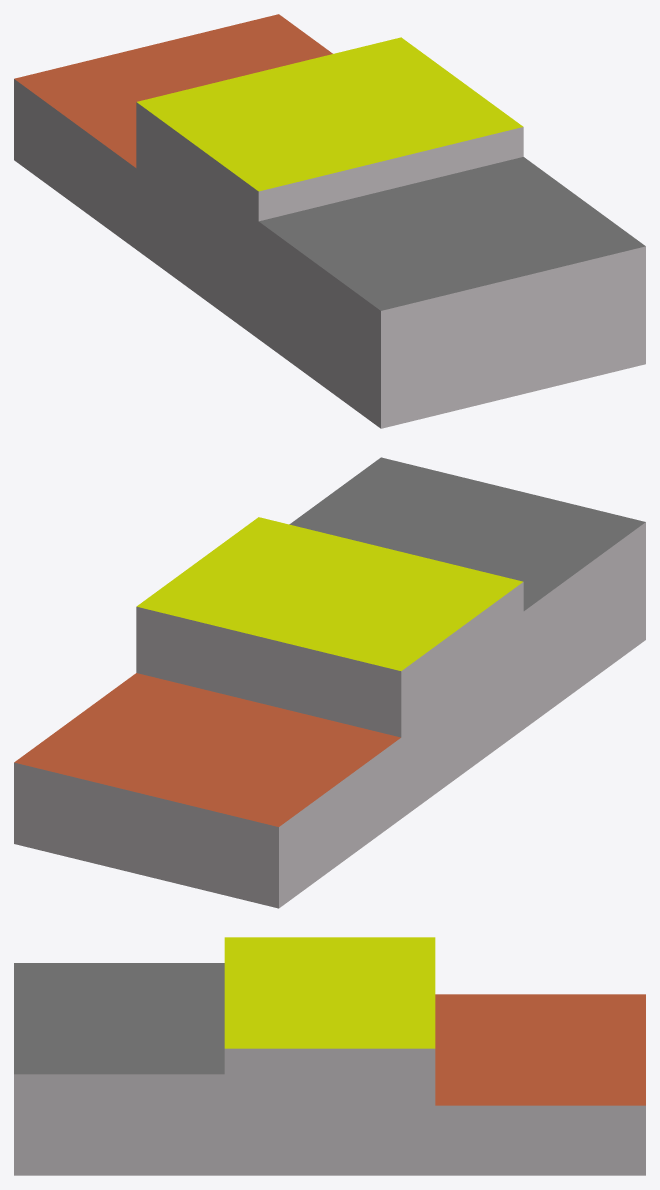
The model's file is podium.fbx.
3 views of the same model, one above another, from view 1: azimuth 30°, elevation 25°; view 2: azimuth 150°, elevation 25°; view 3: azimuth 270°, elevation 25° (orthographic). The views are drawn at different scales.
Visible parts, largest first — view 1: Cube.003; view 2: Cube.003; view 3: Cube.003.
Boxes of the visible parts, left/top/right/bottom form: Cube.003: left=14, top=14, right=645, bottom=428; Cube.003: left=14, top=457, right=645, bottom=908; Cube.003: left=14, top=937, right=645, bottom=1175.
Size of the model in its own units: 379 by 202 by 910.
